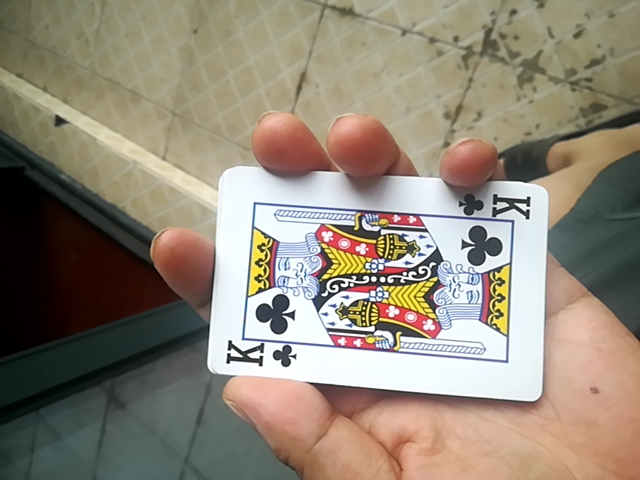mh k: (196, 163, 546, 402)
